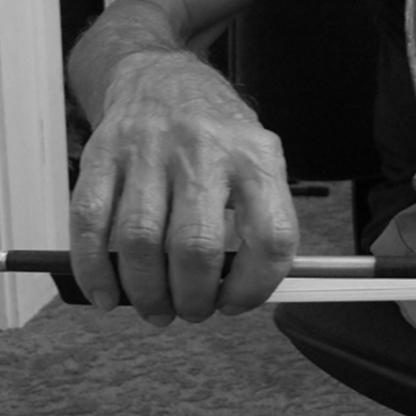good: (63, 110, 298, 326)
